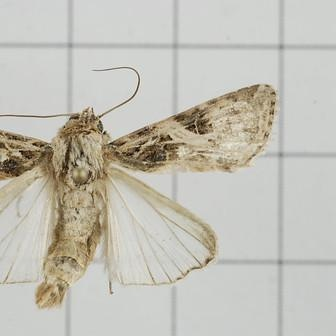Spodoptera litura: (0, 67, 278, 311)
